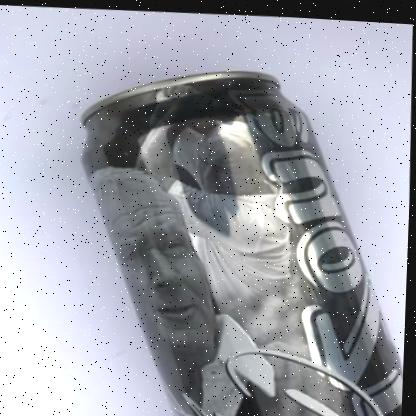Metal: (84, 66, 406, 416)
